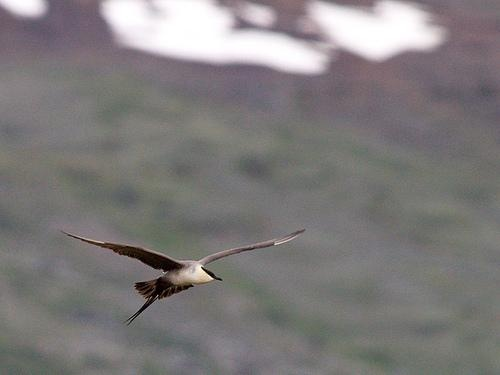bird: (62, 220, 306, 324)
